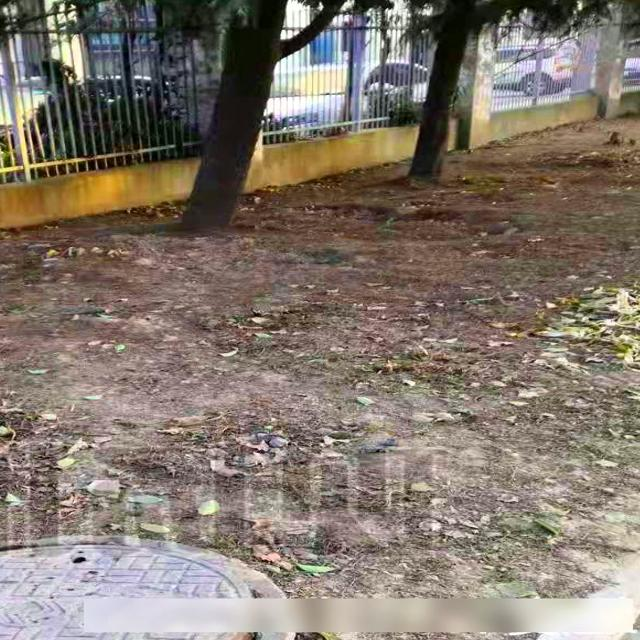uncovered: (0, 534, 292, 640)
